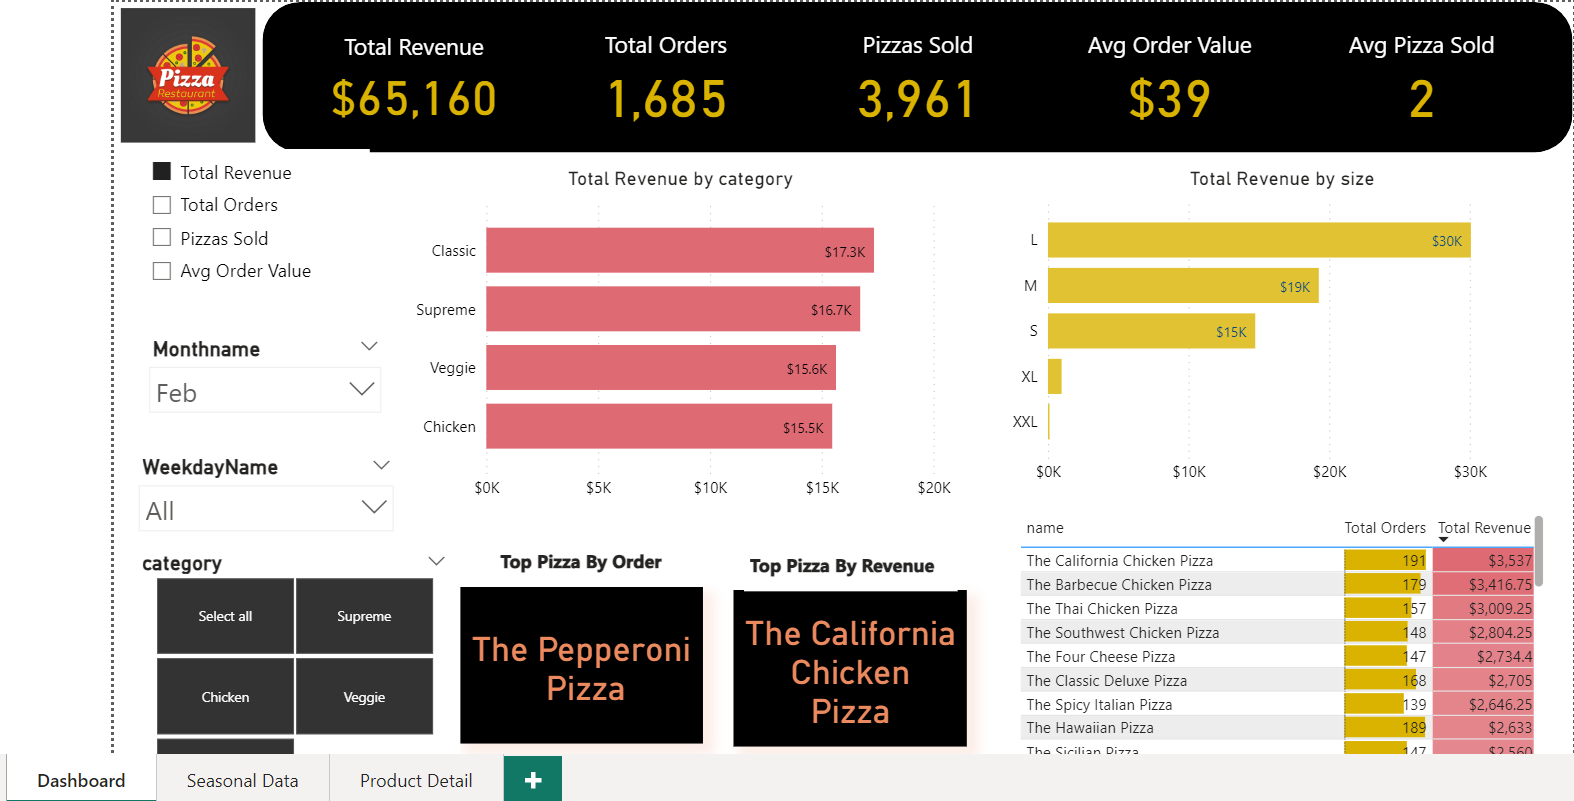

Layout of this report page (visuals, bound fields, positions):
{"tool":"powerbi","page":{"name":"Dashboard","canvas":[1280,720],"ordinal":0},"visuals":[{"type":"shape","box":[130.3,0,1149.1,131.9],"z":0},{"type":"cardVisual","fields":{"Data":["Measures_Table.Total Revenue","Measures_Table.Total Orders","Measures_Table.Pizzas Sold","Measures_Table.Avg Order Value","Measures_Table.Avg Pizza Sold"]},"box":[152.6,4.8,1106.2,122.4],"z":1000},{"type":"image","box":[0,0,129.7,128.4],"z":2000},{"type":"barChart","fields":{"Category":["pizza_types.category"],"Y":["Measures_Table.Total Revenue"]},"box":[255,145,483.3,300],"z":3000},{"type":"barChart","fields":{"Category":["pizzas.size"],"Y":["Measures_Table.Total Revenue"]},"box":[778.3,145,491.7,286.7],"z":4000},{"type":"card","fields":{"Values":["Min(pizza_types.name)"]},"box":[543.8,516.1,204.7,137.5],"z":5000},{"type":"textbox","box":[553.1,477.1,187.5,39.1],"z":6000},{"type":"card","fields":{"Values":["Min(pizza_types.name)"]},"box":[302.6,513,214.1,137.5],"z":7000},{"type":"textbox","box":[302.6,474,214.1,39.1],"z":8000},{"type":"slicer","fields":{"Values":["Calendar.Monthname"]},"box":[21.7,288.3,223.3,98.3],"z":9000},{"type":"slicer","fields":{"Values":["Calendar.WeekdayName"]},"box":[11.7,391.7,243.3,85],"z":10000},{"type":"slicer","fields":{"Values":["pizza_types.category"]},"box":[11.7,476.7,291.7,243.3],"z":11000},{"type":"tableEx","fields":{"Values":["pizza_types.name","Measures_Table.Total Orders","Measures_Table.Total Revenue"]},"box":[788.9,444.4,469.8,252.4],"z":12000},{"type":"slicer","fields":{"Values":["Performance Matrix.Performance Matrix"]},"box":[21.7,128.3,203.3,146.7],"z":12001}]}

Visuals, with their boxes on the page's 1280x720 design canvas (x1, y1, x2, y2). These are canvas units, not pixel positions in the 1574x801 screenshot, which may show the page scaled, cropped or inside an application window:
shape: {"left": 130, "top": 0, "right": 1279, "bottom": 132}
cardVisual - Measures_Table.Total Revenue x Measures_Table.Total Orders: {"left": 153, "top": 5, "right": 1259, "bottom": 127}
image: {"left": 0, "top": 0, "right": 130, "bottom": 128}
barChart - pizza_types.category x Measures_Table.Total Revenue: {"left": 255, "top": 145, "right": 738, "bottom": 445}
barChart - pizzas.size x Measures_Table.Total Revenue: {"left": 778, "top": 145, "right": 1270, "bottom": 432}
card - Min(pizza_types.name): {"left": 544, "top": 516, "right": 748, "bottom": 654}
textbox: {"left": 553, "top": 477, "right": 741, "bottom": 516}
card - Min(pizza_types.name): {"left": 303, "top": 513, "right": 517, "bottom": 650}
textbox: {"left": 303, "top": 474, "right": 517, "bottom": 513}
slicer - Calendar.Monthname: {"left": 22, "top": 288, "right": 245, "bottom": 387}
slicer - Calendar.WeekdayName: {"left": 12, "top": 392, "right": 255, "bottom": 477}
slicer - pizza_types.category: {"left": 12, "top": 477, "right": 303, "bottom": 720}
tableEx - pizza_types.name x Measures_Table.Total Orders: {"left": 789, "top": 444, "right": 1259, "bottom": 697}
slicer - Performance Matrix.Performance Matrix: {"left": 22, "top": 128, "right": 225, "bottom": 275}
